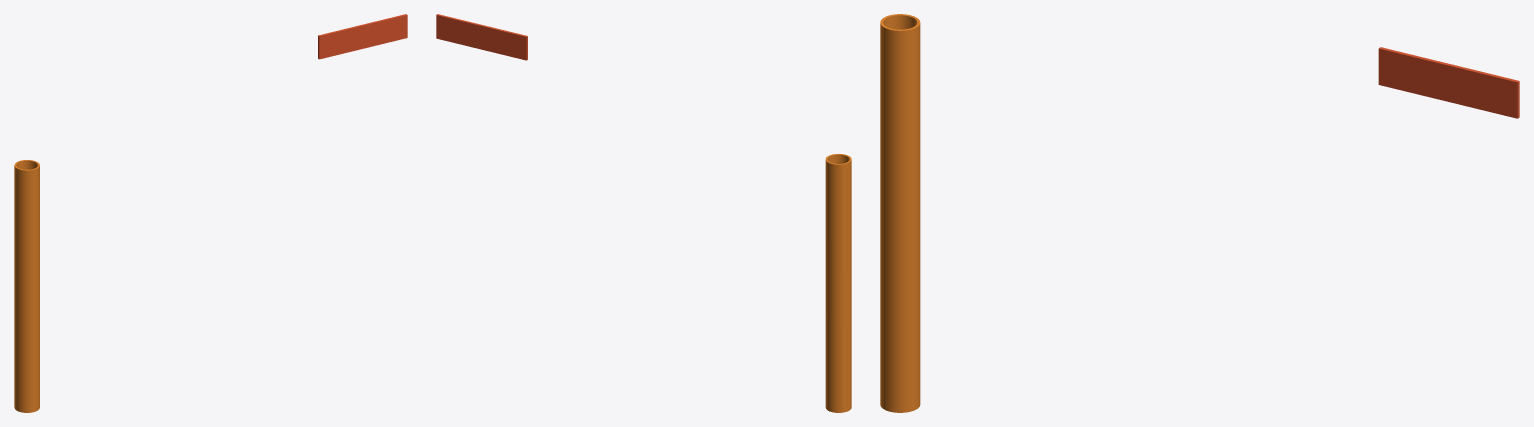
Rendered from sewage_lift_station_pressure.glb.
The picture shows the model from 3 angles, left to right: view 1: azimuth 30°, elevation 25°; view 2: azimuth 150°, elevation 25°; view 3: azimuth 330°, elevation 25°; orthographic projection. The views are drawn at different scales.
Visible parts, largest first — view 1: pressure__back; view 2: pressure__back; view 3: pressure__back.
Part boxes in pixels (x1=…): pressure__back: x1=14, y1=14, x2=407, y2=412; pressure__back: x1=436, y1=14, x2=851, y2=412; pressure__back: x1=880, y1=14, x2=1519, y2=412.
Size of the model in its own units: 3.6 by 2.55 by 0.21.
